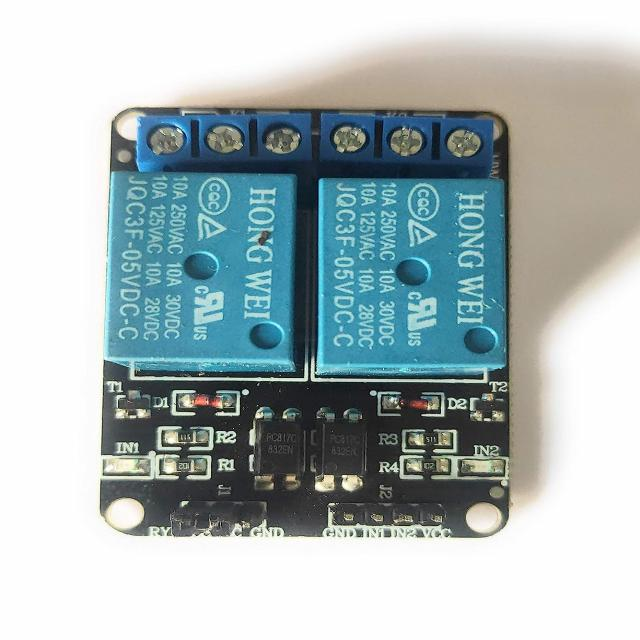4439: (472, 391, 515, 424), (111, 392, 155, 419)
IC: (312, 411, 371, 488), (258, 414, 306, 486)
LED: (107, 452, 149, 479), (462, 458, 506, 479)
connector -5v-: (136, 108, 512, 181), (328, 502, 452, 532), (168, 505, 269, 536)
diode -D1-: (371, 397, 445, 416), (183, 392, 237, 412)
resistor IR1: (165, 456, 206, 477), (408, 454, 448, 475), (168, 430, 213, 446), (415, 433, 451, 448)
